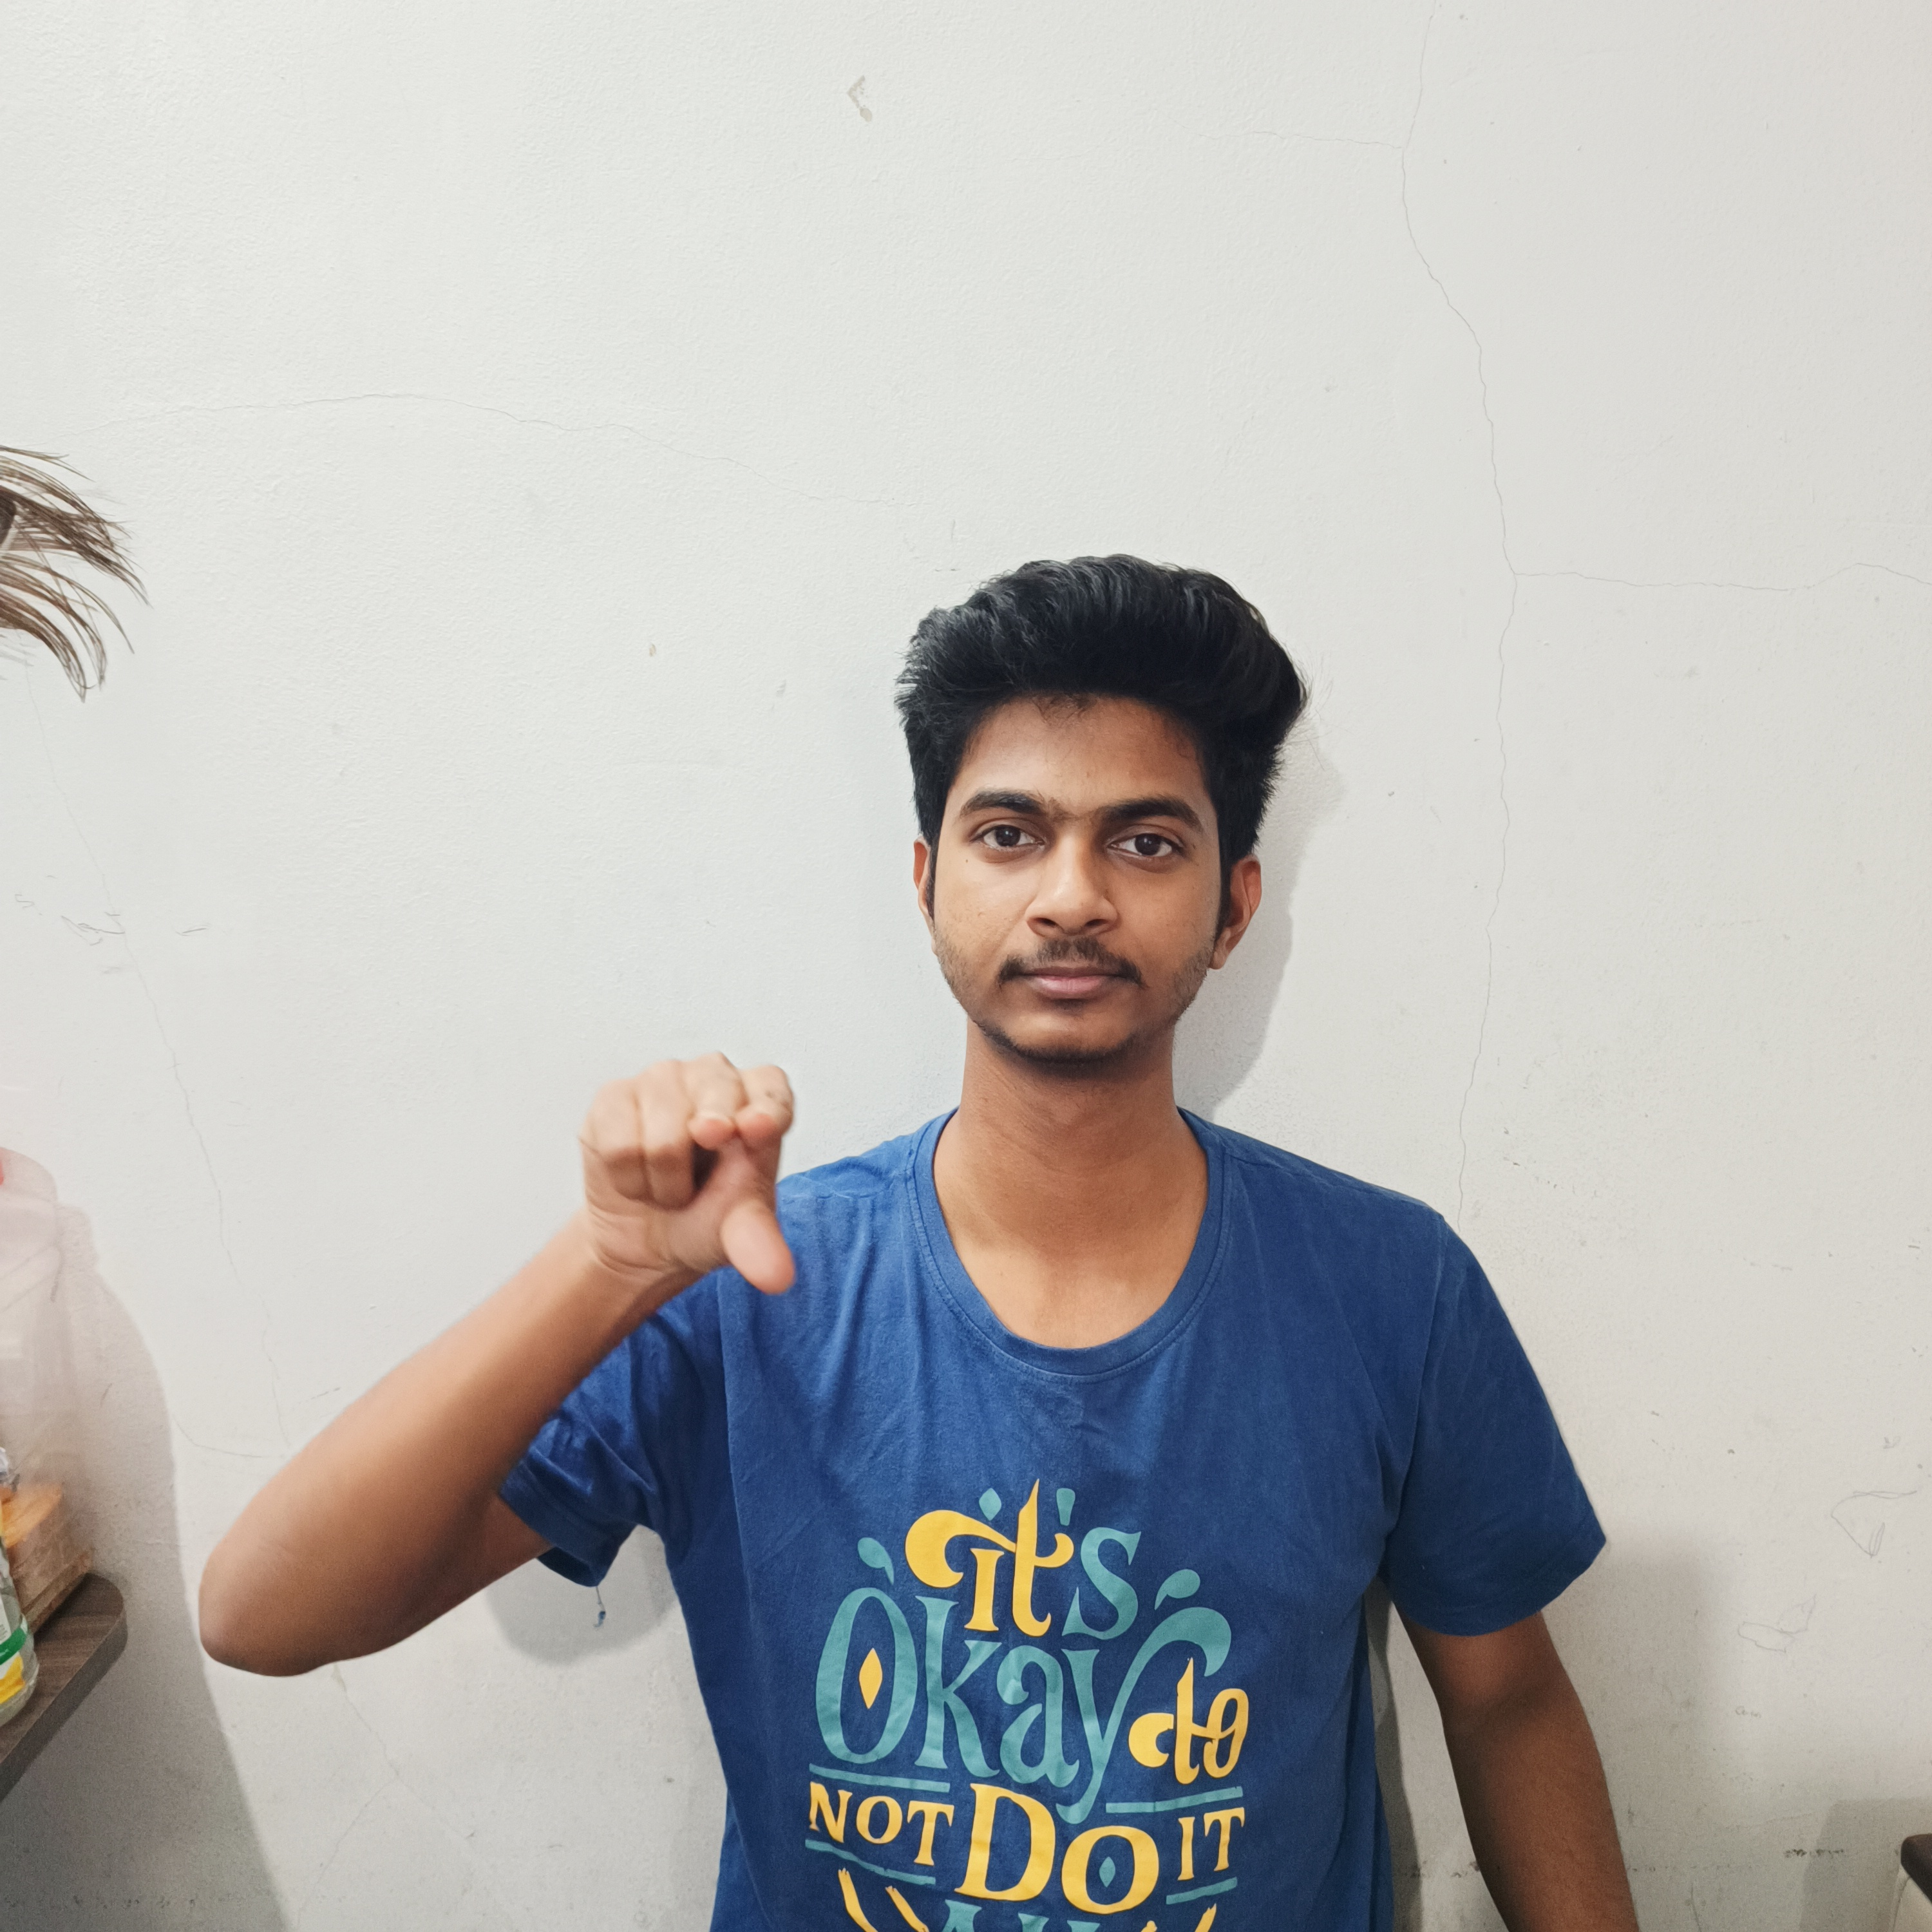Yes: (524, 1021, 835, 1338)
